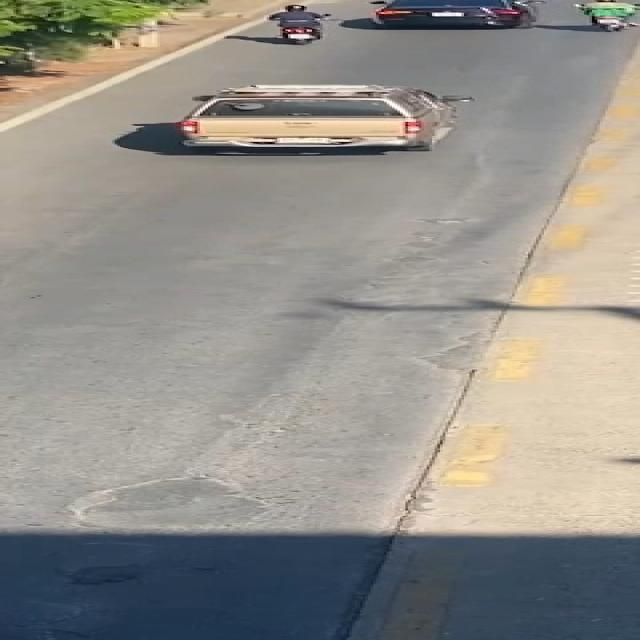car: (160, 79, 488, 158)
